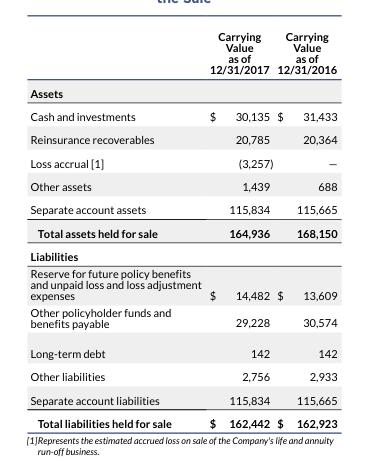table: (29, 29, 336, 429)
table column: (29, 29, 204, 429), (204, 29, 274, 429), (274, 29, 336, 429)
table column header: (29, 29, 336, 80)
table projected row header: (29, 80, 336, 104), (29, 244, 336, 264)
table row: (29, 29, 336, 80), (29, 264, 336, 303), (29, 303, 336, 337), (29, 337, 336, 364), (29, 80, 336, 104), (29, 150, 336, 174), (29, 220, 336, 244), (29, 104, 336, 127), (29, 127, 336, 150), (29, 174, 336, 197), (29, 197, 336, 220), (29, 364, 336, 387), (29, 387, 336, 410), (29, 244, 336, 264), (29, 410, 336, 429)
